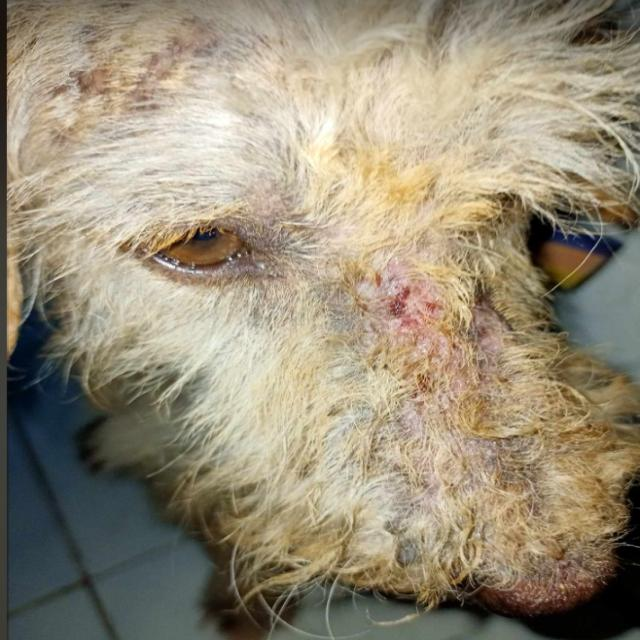demodicosis: (289, 278, 579, 582)
